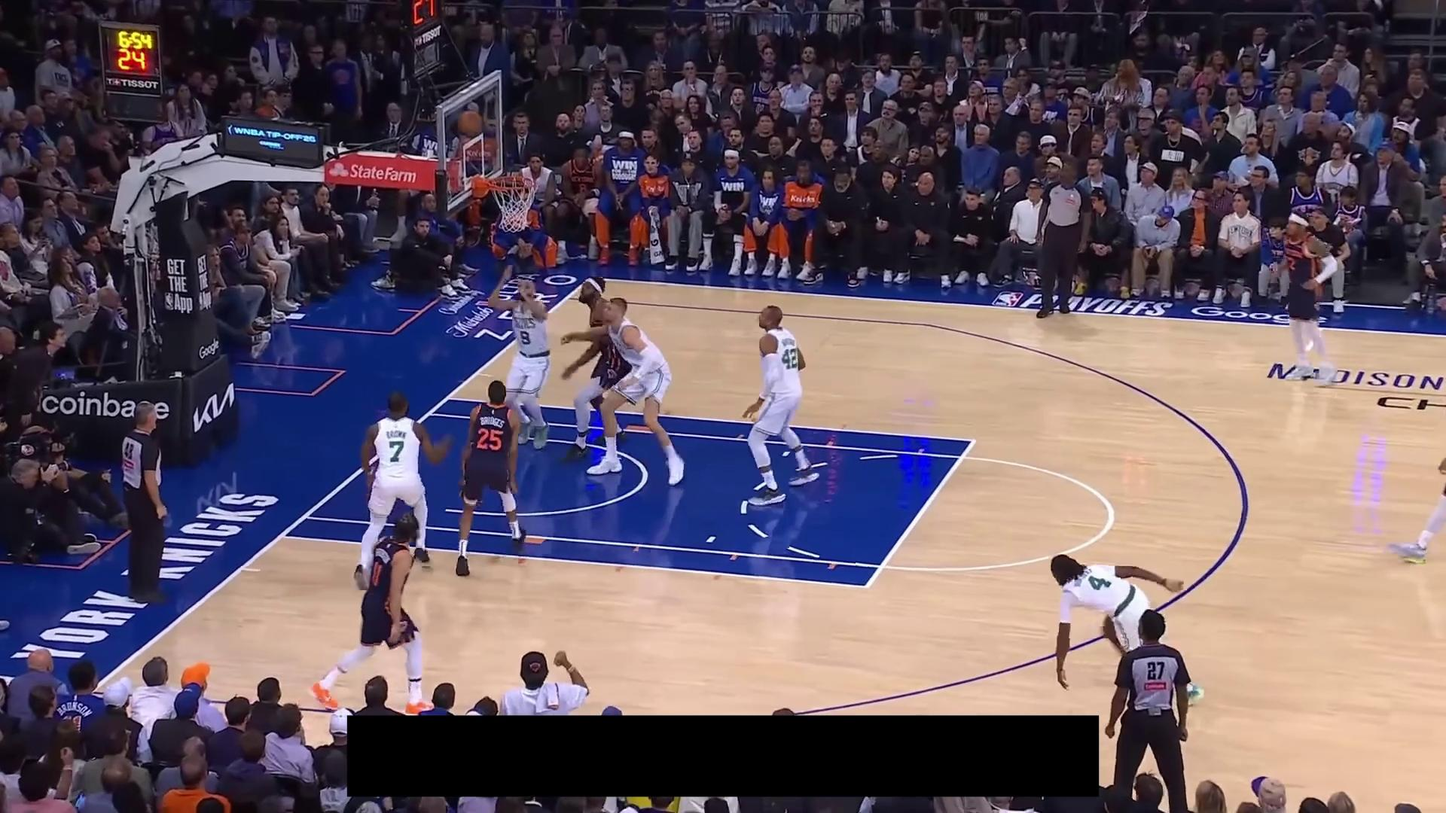ball: (459, 110, 483, 135)
number: (475, 427, 503, 452), (1087, 574, 1111, 592), (781, 348, 798, 370), (388, 440, 405, 462), (518, 329, 532, 346), (1287, 256, 1297, 271)
player: (308, 511, 435, 716), (1048, 550, 1207, 704), (560, 297, 686, 488), (353, 388, 453, 591), (740, 303, 821, 508), (453, 378, 529, 578), (561, 275, 633, 466), (1269, 209, 1342, 389), (484, 267, 554, 452), (1386, 407, 1446, 571)
referee: (1105, 610, 1194, 813), (119, 401, 173, 603), (1034, 160, 1093, 318)
rim: (487, 174, 533, 192)
